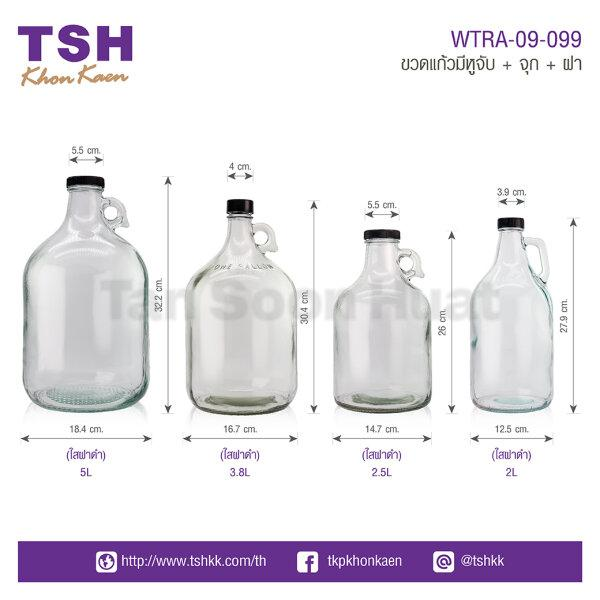glass_bottle: (13, 172, 154, 418), (182, 193, 301, 421), (328, 224, 437, 420), (460, 213, 562, 420)
